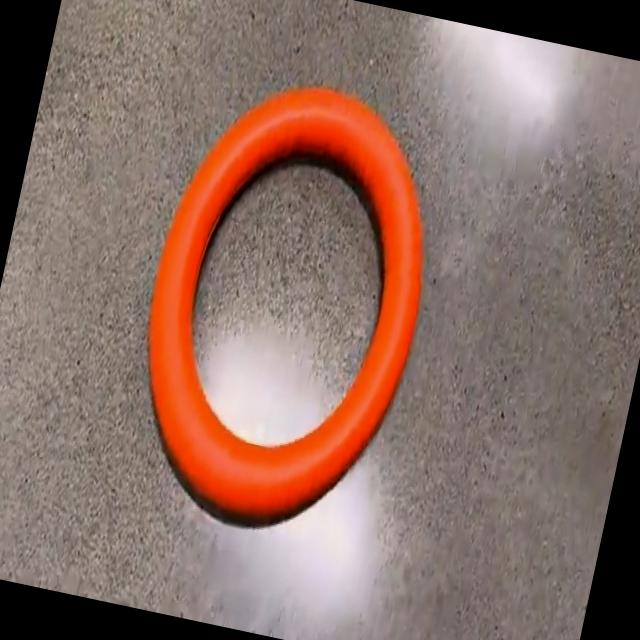note: (148, 87, 422, 523)
